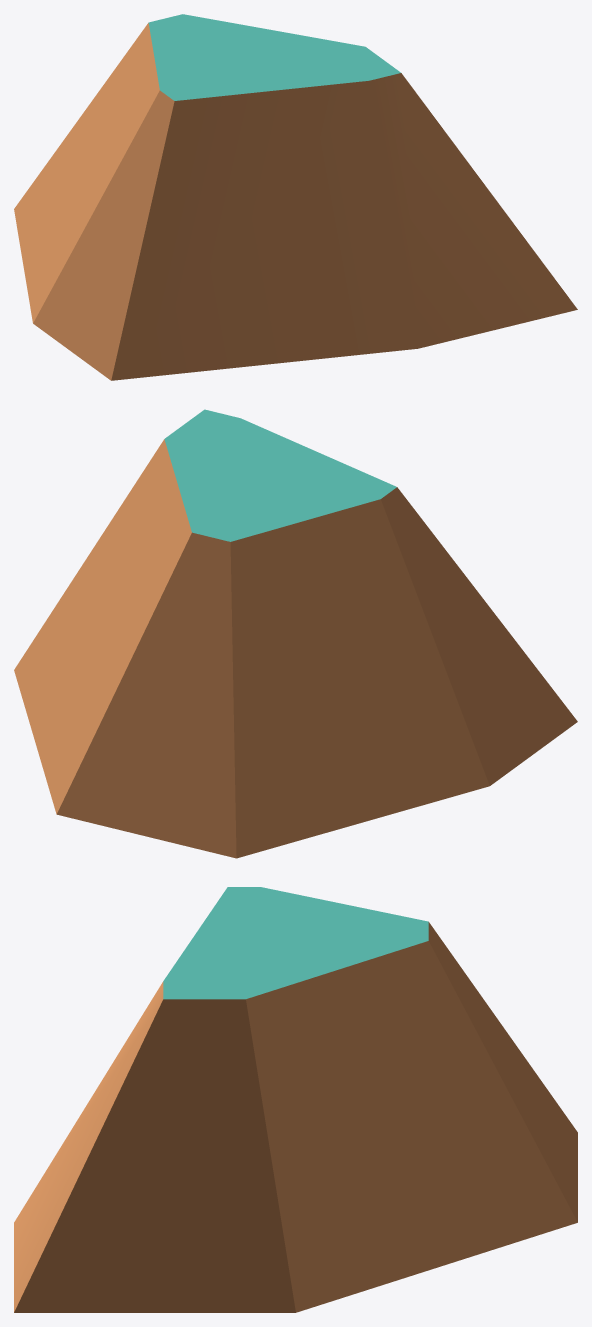
Rendered from rock_small2.obj.
3 renders of one model, top to bottom at view 1: azimuth 30°, elevation 25°; view 2: azimuth 150°, elevation 25°; view 3: azimuth 270°, elevation 25°, orthographic. The views are drawn at different scales.
Visible parts, largest first — view 1: rock_small2; view 2: rock_small2; view 3: rock_small2.
Boxes of the visible parts, x1=… form: rock_small2: x1=14, y1=14, x2=577, y2=380; rock_small2: x1=14, y1=409, x2=577, y2=858; rock_small2: x1=14, y1=887, x2=577, y2=1312.
Size of the model in its own units: 3.61 by 1.77 by 3.61.
